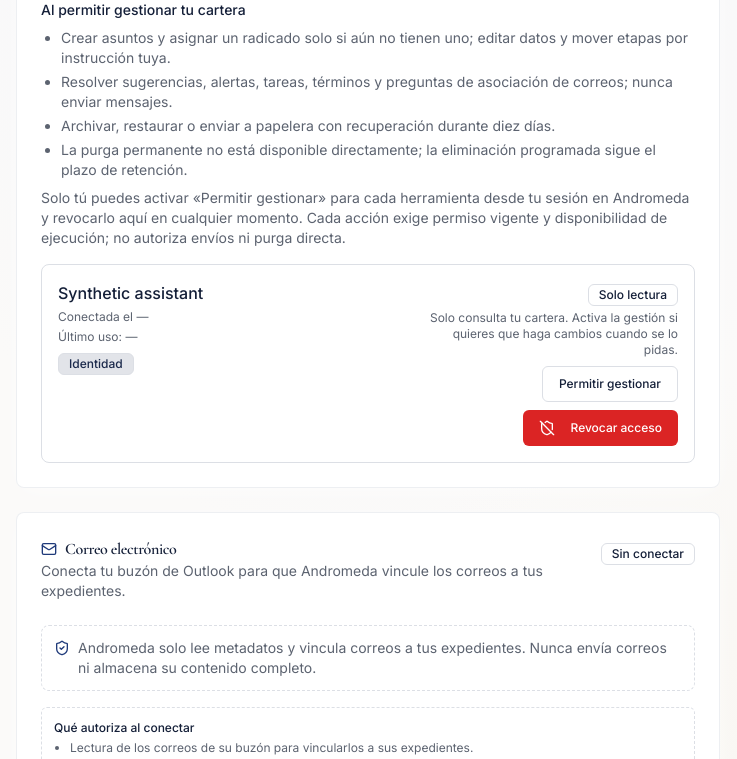
Test: SettingsConnections rendered permission boundaries › refreshes actual permission state after grant and revoke without optimistic management
(page scrolled)
Expected: the text "Solo lectura" is shown, [588,284,678,306]
Step 1. Click the button "Permitir gestionar" → (610, 384), box [542,366,678,402]
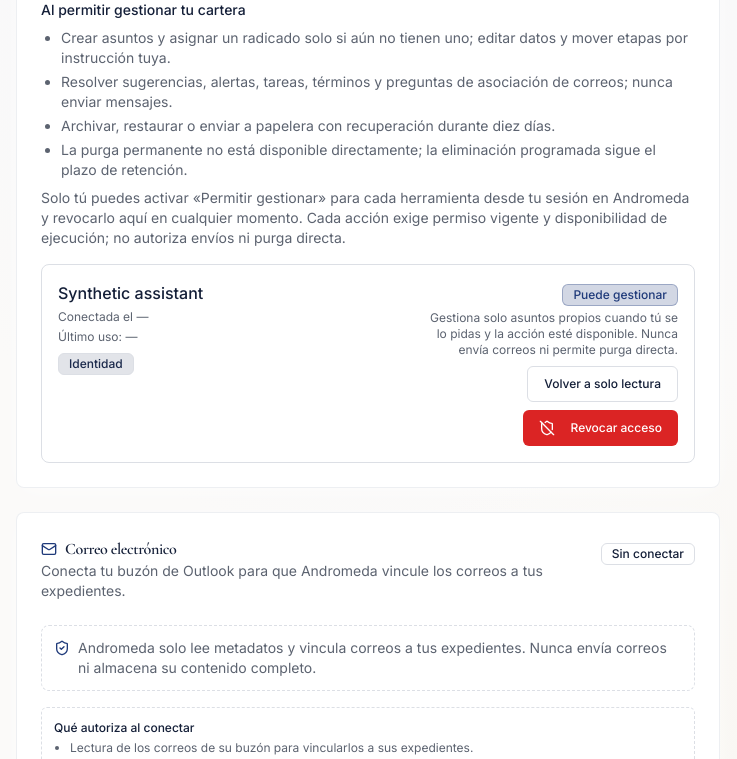
Expected: the text "Puede gestionar" is shown, [562,284,678,306]
Step 2. Click the button "Volver a solo lectura" → (603, 384), box [527,366,678,402]
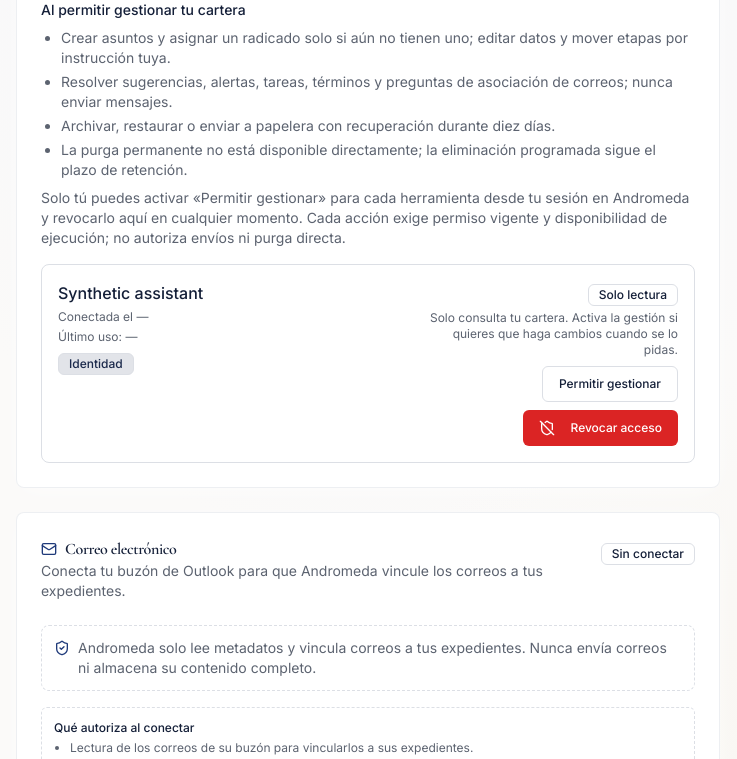
Expected: the text "Solo lectura" is shown, [588,284,678,306]
